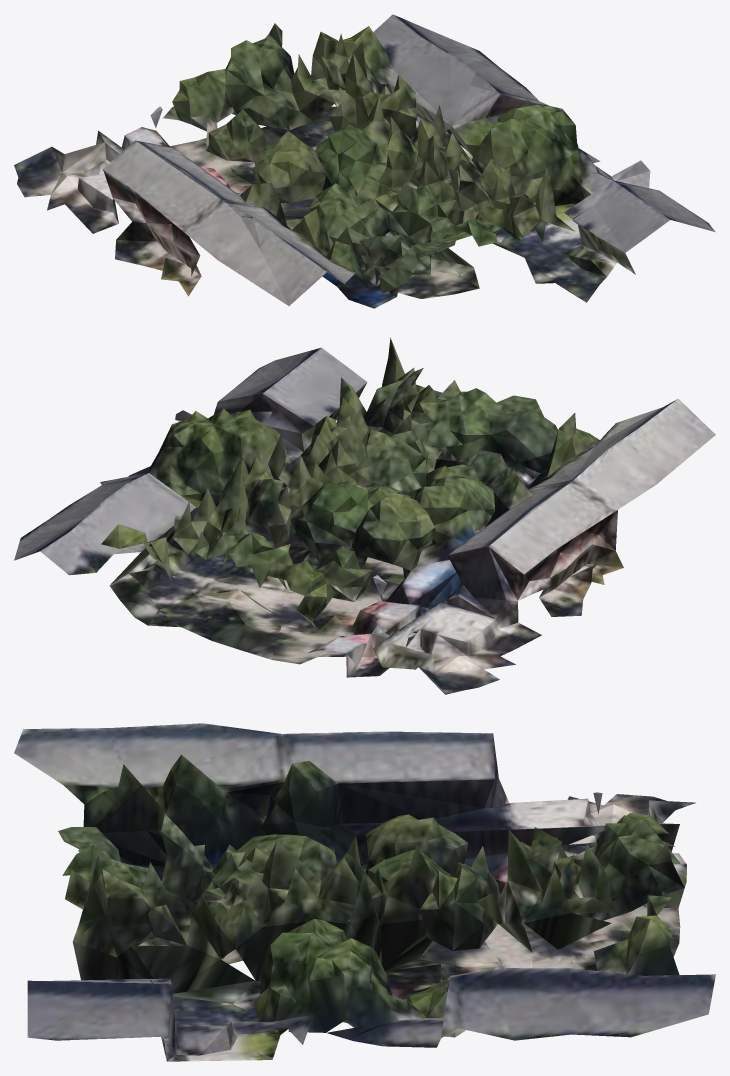
Rendered from Tile_+005_+004_L17_00.glb.
3 renders of one model, top to bottom at view 1: azimuth 30°, elevation 25°; view 2: azimuth 150°, elevation 25°; view 3: azimuth 270°, elevation 25°, orthographic. The views are drawn at different scales.
Size of the model in its own units: 59.69 by 16 by 61.75.
1 material, 1 textured.
